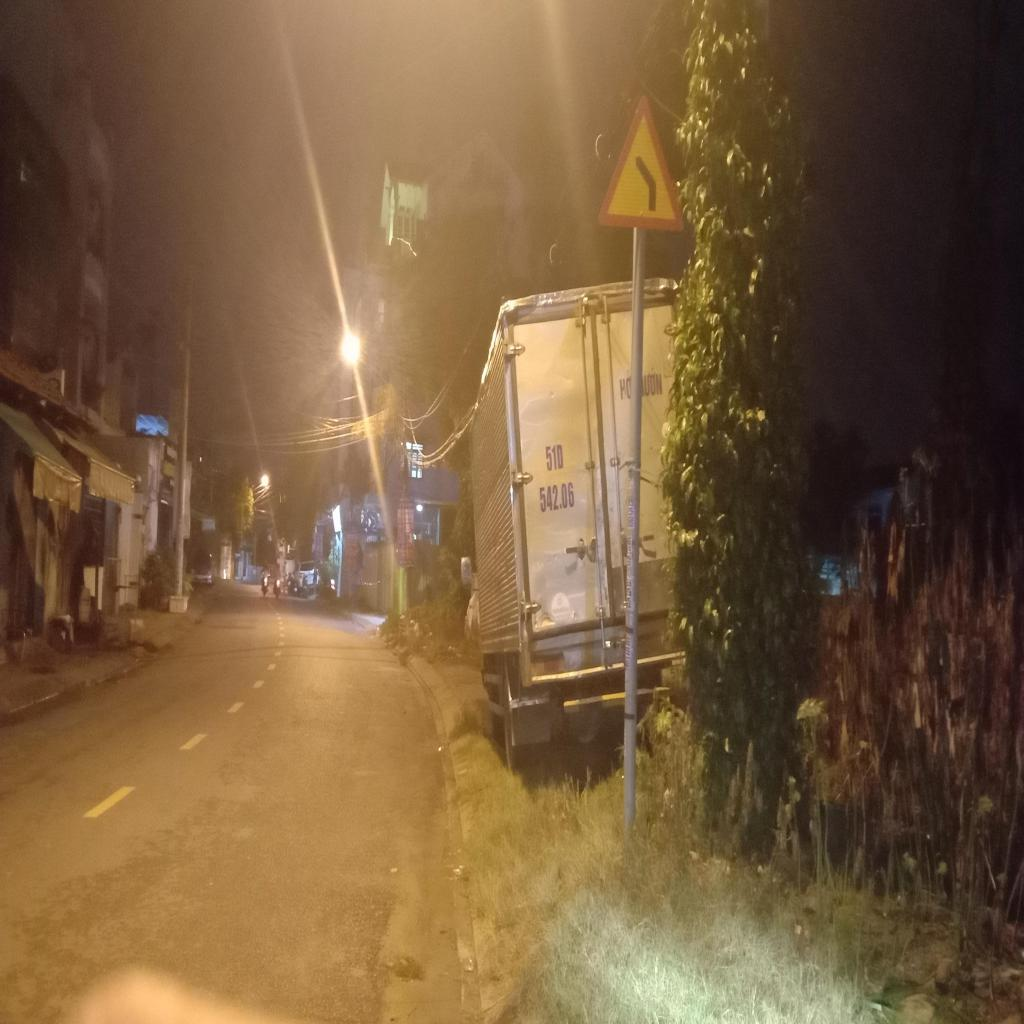cho_ngoat_nguy_hiem_ben_trai: (594, 88, 685, 232)
